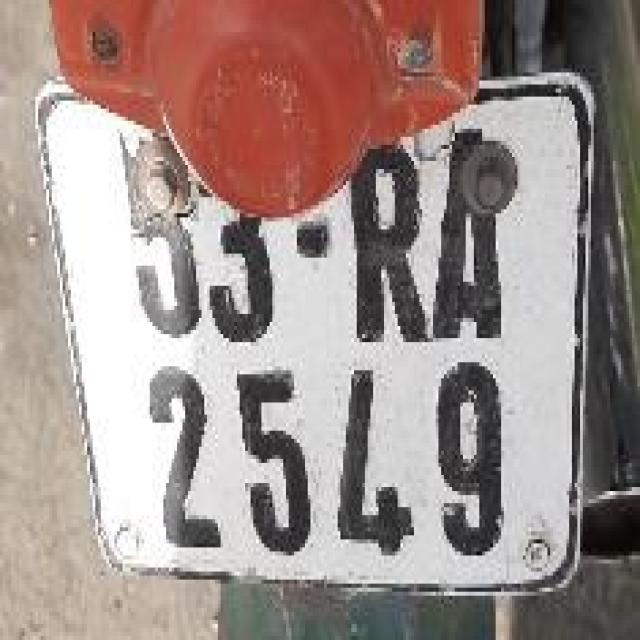2: (130, 344, 220, 566)
3: (200, 115, 277, 352), (116, 145, 203, 354)
4: (335, 352, 419, 570)
5: (233, 360, 320, 566)
9: (429, 348, 516, 594)
A: (436, 117, 506, 342)
R: (339, 121, 429, 342)
